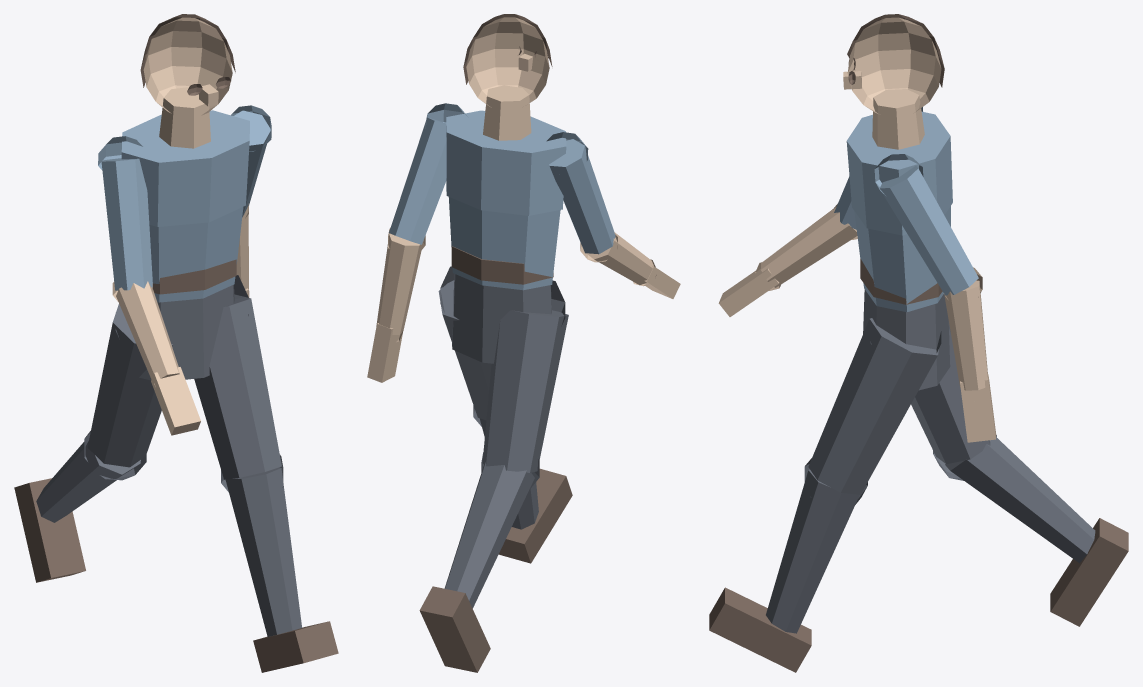
File: low-poly-character-figures-civilian-walking-06de0354.glb
3 renders of one model, left to right at view 1: azimuth 30°, elevation 25°; view 2: azimuth 150°, elevation 25°; view 3: azimuth 270°, elevation 25°, orthographic. The views are drawn at different scales.
Visible parts, largest first — view 1: civilian-walking; view 2: civilian-walking; view 3: civilian-walking.
Part boxes in pixels (<box>): civilian-walking: <box>14,14,338,672</box>; civilian-walking: <box>367,14,680,672</box>; civilian-walking: <box>709,14,1128,672</box>.
Bounding box in the file's own units: 0.5765 × 1.73 × 1.05.
